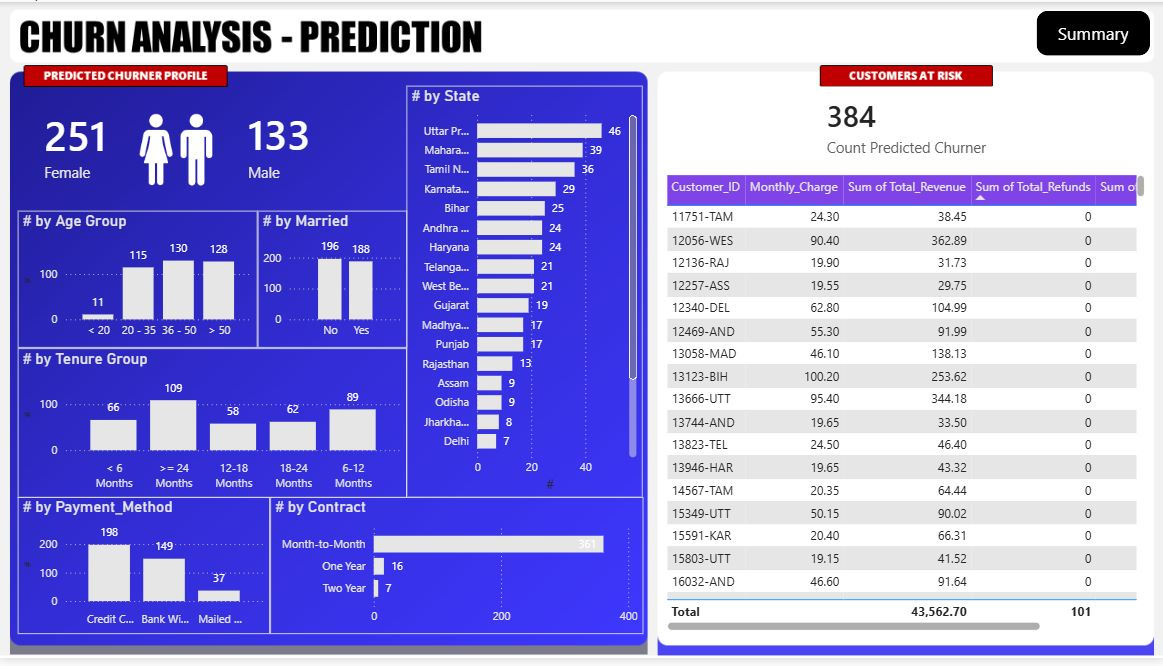

This screenshot's page, from the dashboard's own definition file:
{"tool":"powerbi","page":{"name":"Churn Prediction","canvas":[1280,720],"ordinal":2},"visuals":[{"type":"tableEx","fields":{"Values":["Predictions.Customer_ID","Predictions.Monthly_Charge","Sum(Predictions.Total_Revenue)","Sum(Predictions.Total_Refunds)","Sum(Predictions.Number_of_Referrals)"]},"box":[727.4,184.9,535.6,509.6],"z":0},{"type":"cardVisual","fields":{"Data":["pbl_measures.Count Predicted Churner"]},"box":[879.5,87.7,268.5,97.3],"z":1},{"type":"cardVisual","fields":{"Data":["pbl_measures.Count Predicted Churner"]},"box":[20.5,87.7,272.6,137],"z":2},{"type":"cardVisual","fields":{"Data":["pbl_measures.Count Predicted Churner"]},"box":[243.8,80.8,239.7,149.3],"z":3},{"type":"clusteredColumnChart","fields":{"Category":["Mapping_AgeGrp.Age Group"],"Y":["CountNonNull(Predictions.Customer_ID)"]},"box":[20.5,228.8,263,150.7],"z":4},{"type":"clusteredColumnChart","fields":{"Y":["CountNonNull(Predictions.Customer_ID)"],"Category":["Predictions.Married"]},"box":[283.6,228.8,164.4,150.7],"z":5},{"type":"clusteredColumnChart","fields":{"Y":["CountNonNull(Predictions.Customer_ID)"],"Category":["mapping_TenureGrp.Tenure Group"]},"box":[20.5,379.5,427.4,164.4],"z":6},{"type":"clusteredColumnChart","fields":{"Y":["CountNonNull(Predictions.Customer_ID)"],"Category":["Predictions.Payment_Method"]},"box":[20.5,543.8,276.7,150.7],"z":7},{"type":"clusteredBarChart","fields":{"Category":["Predictions.Contract"],"Y":["CountNonNull(Predictions.Customer_ID)"]},"box":[297.3,543.8,409.6,150.7],"z":8},{"type":"clusteredBarChart","fields":{"Y":["CountNonNull(Predictions.Customer_ID)"],"Category":["Predictions.State"]},"box":[447.9,91.8,258.9,452.1],"z":9},{"type":"image","box":[143.8,94.5,100,134.2],"z":10},{"type":"shape","box":[1138.4,9.6,124.7,49.3],"z":11}]}

Visuals, with their boxes in screenshot pixels (x1, y1, x2, y2), scaled from the page's 1280x720 canvas onto the 1163x666 screenshot:
tableEx - Predictions.Customer_ID x Predictions.Monthly_Charge: x1=661 y1=171 x2=1148 y2=642
cardVisual - pbl_measures.Count Predicted Churner: x1=799 y1=81 x2=1043 y2=171
cardVisual - pbl_measures.Count Predicted Churner: x1=19 y1=81 x2=266 y2=208
cardVisual - pbl_measures.Count Predicted Churner: x1=222 y1=75 x2=439 y2=213
clusteredColumnChart - Mapping_AgeGrp.Age Group x CountNonNull(Predictions.Customer_ID): x1=19 y1=212 x2=258 y2=351
clusteredColumnChart - CountNonNull(Predictions.Customer_ID) x Predictions.Married: x1=258 y1=212 x2=407 y2=351
clusteredColumnChart - CountNonNull(Predictions.Customer_ID) x mapping_TenureGrp.Tenure Group: x1=19 y1=351 x2=407 y2=503
clusteredColumnChart - CountNonNull(Predictions.Customer_ID) x Predictions.Payment_Method: x1=19 y1=503 x2=270 y2=642
clusteredBarChart - Predictions.Contract x CountNonNull(Predictions.Customer_ID): x1=270 y1=503 x2=642 y2=642
clusteredBarChart - CountNonNull(Predictions.Customer_ID) x Predictions.State: x1=407 y1=85 x2=642 y2=503
image: x1=131 y1=87 x2=222 y2=212
shape: x1=1034 y1=9 x2=1148 y2=54
